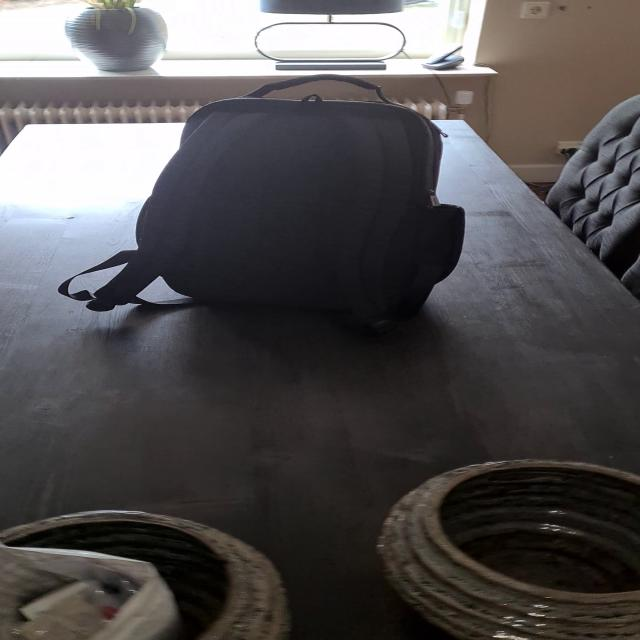backpack: (116, 66, 472, 332)
